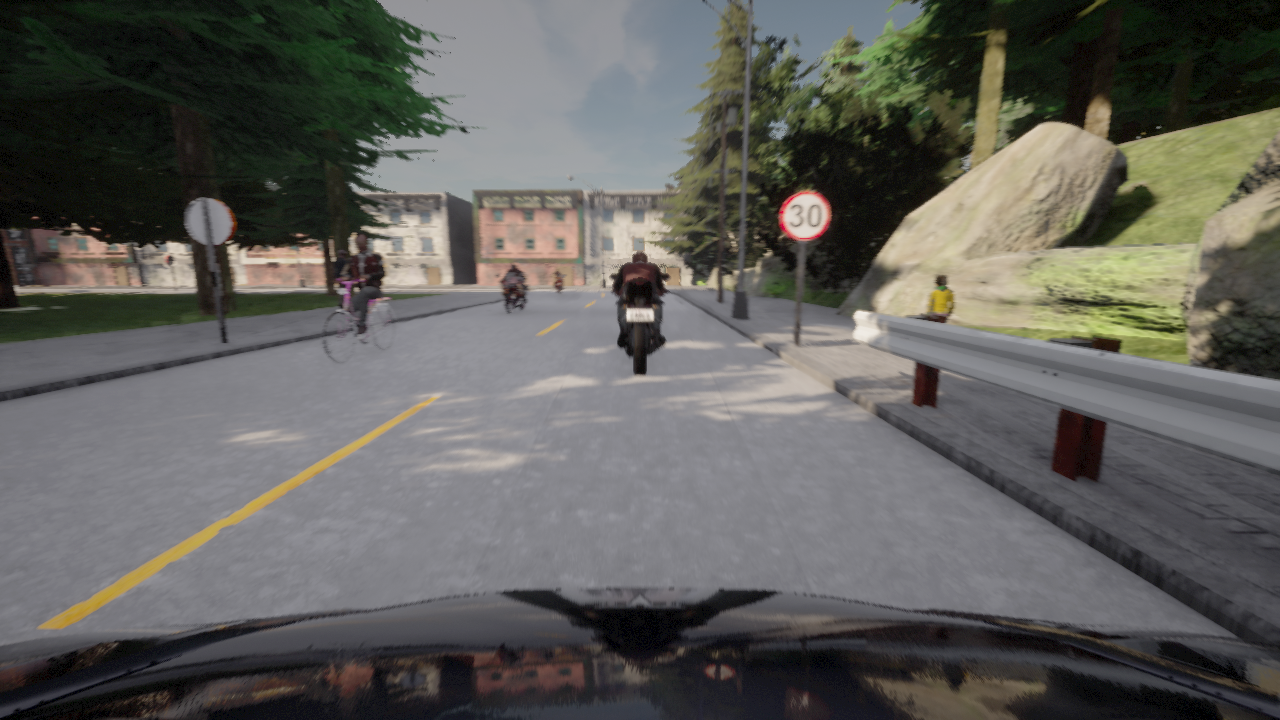cyclist: (0, 588, 1279, 719), (323, 279, 394, 363), (610, 274, 669, 374), (495, 273, 529, 314), (551, 274, 562, 295)
pedestrian: (926, 275, 954, 323), (333, 250, 355, 309)
